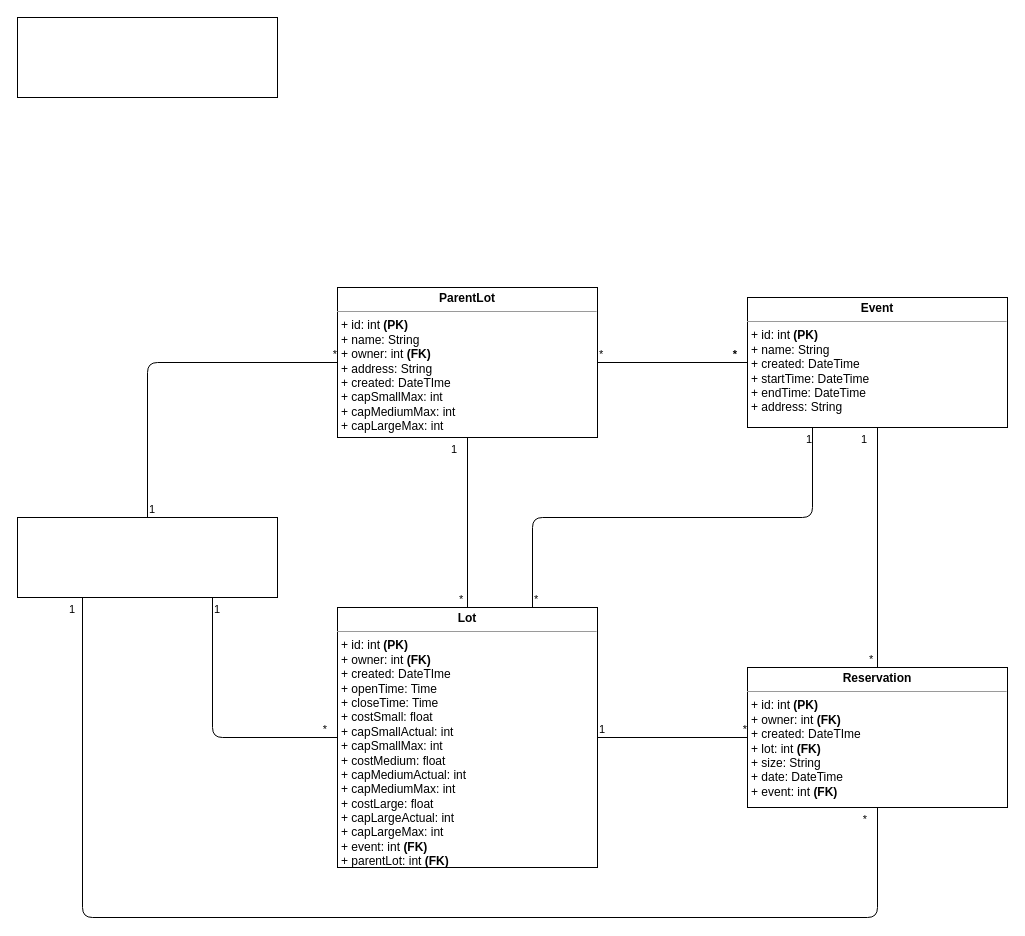
This 1025x936 diagram has some shape labels left out. Each missing label, with the box of its shape:
LotOwner + credits: double + lots: Lot[]: (16, 16, 278, 98)
User + id: int (PK) + username: String + password: String: (16, 516, 278, 598)
